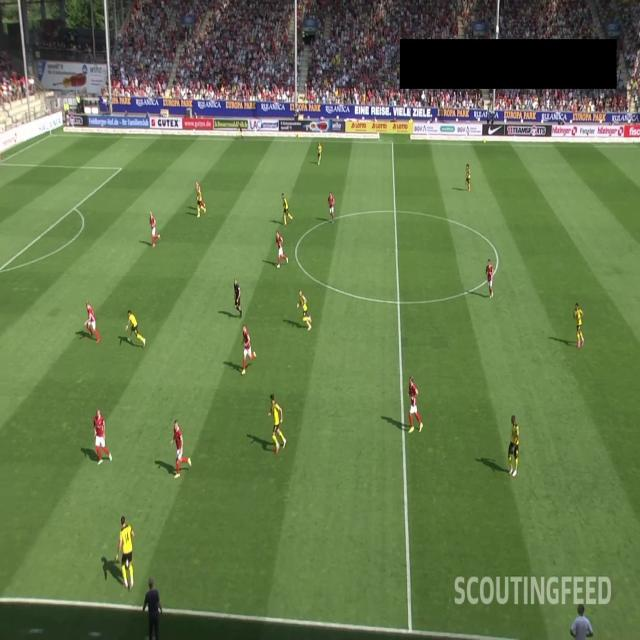ball: (123, 556, 131, 570)
player: (114, 506, 138, 593), (90, 405, 114, 465), (266, 392, 288, 455), (169, 419, 192, 478), (123, 304, 148, 349), (406, 374, 424, 434), (293, 282, 312, 332), (507, 412, 521, 478), (240, 322, 256, 377), (85, 298, 102, 344), (572, 300, 585, 354), (146, 208, 162, 249), (274, 229, 290, 270), (280, 190, 294, 227), (194, 180, 207, 212), (194, 187, 207, 218), (485, 259, 495, 299), (324, 192, 336, 224), (464, 161, 472, 191), (315, 139, 323, 167)
referee: (230, 270, 244, 318), (235, 118, 245, 143)
